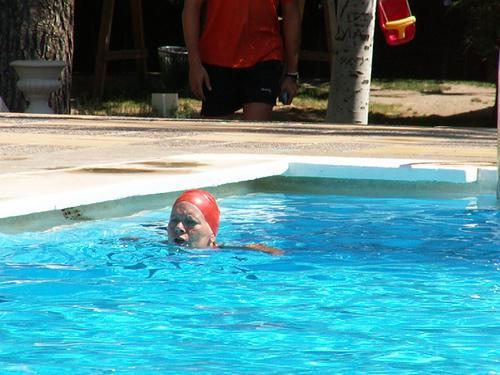swimmer: (167, 186, 242, 260)
